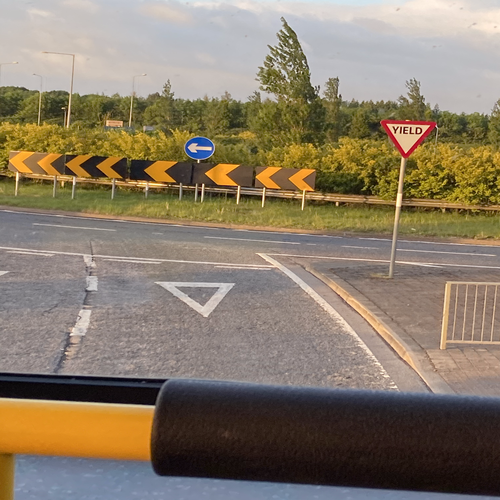Left Turn: (183, 134, 217, 161)
Yield: (379, 118, 435, 156)
